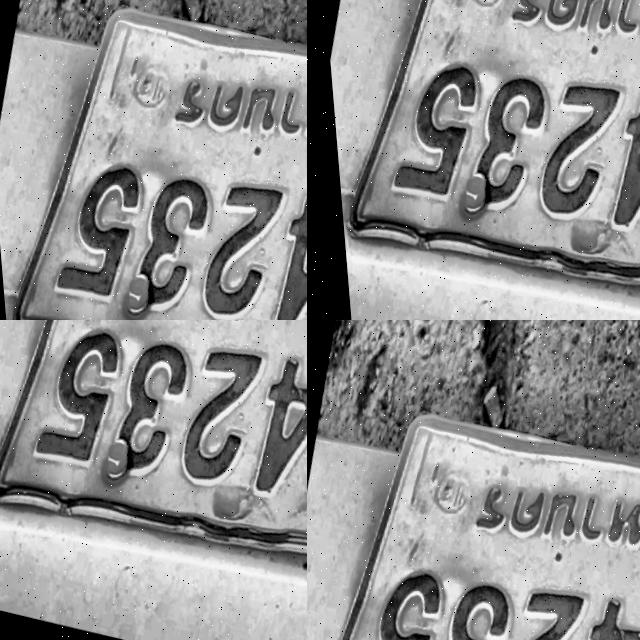license-plate: (307, 354, 640, 640)
